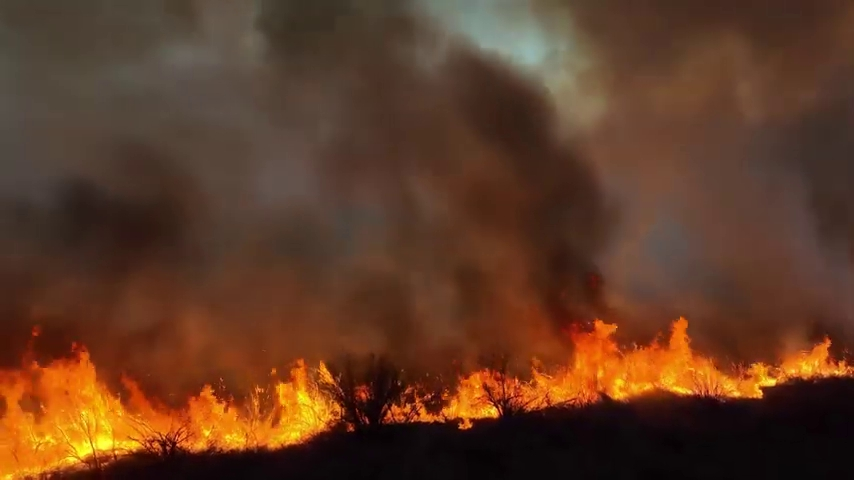forest_fire: (0, 318, 853, 477), (374, 363, 375, 365), (272, 371, 273, 372)
